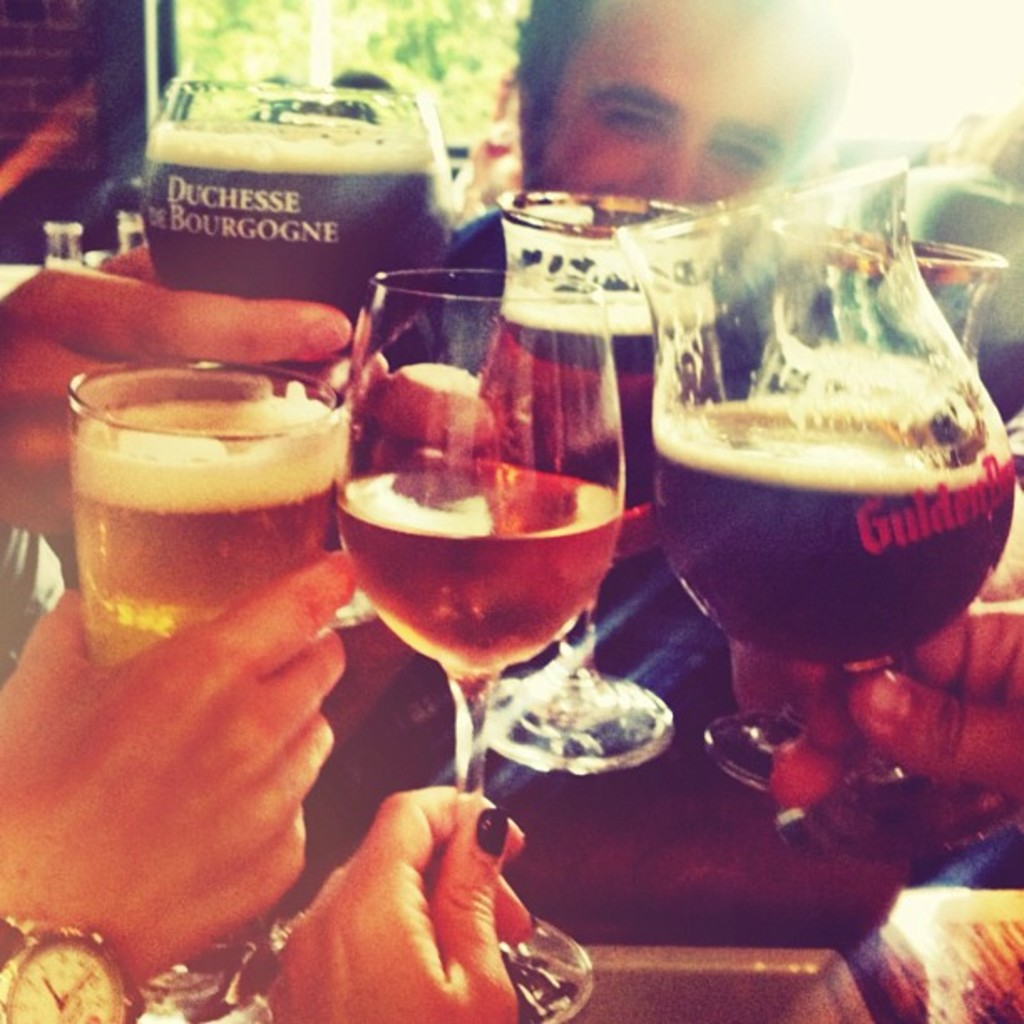Beer: (43, 358, 339, 669)
